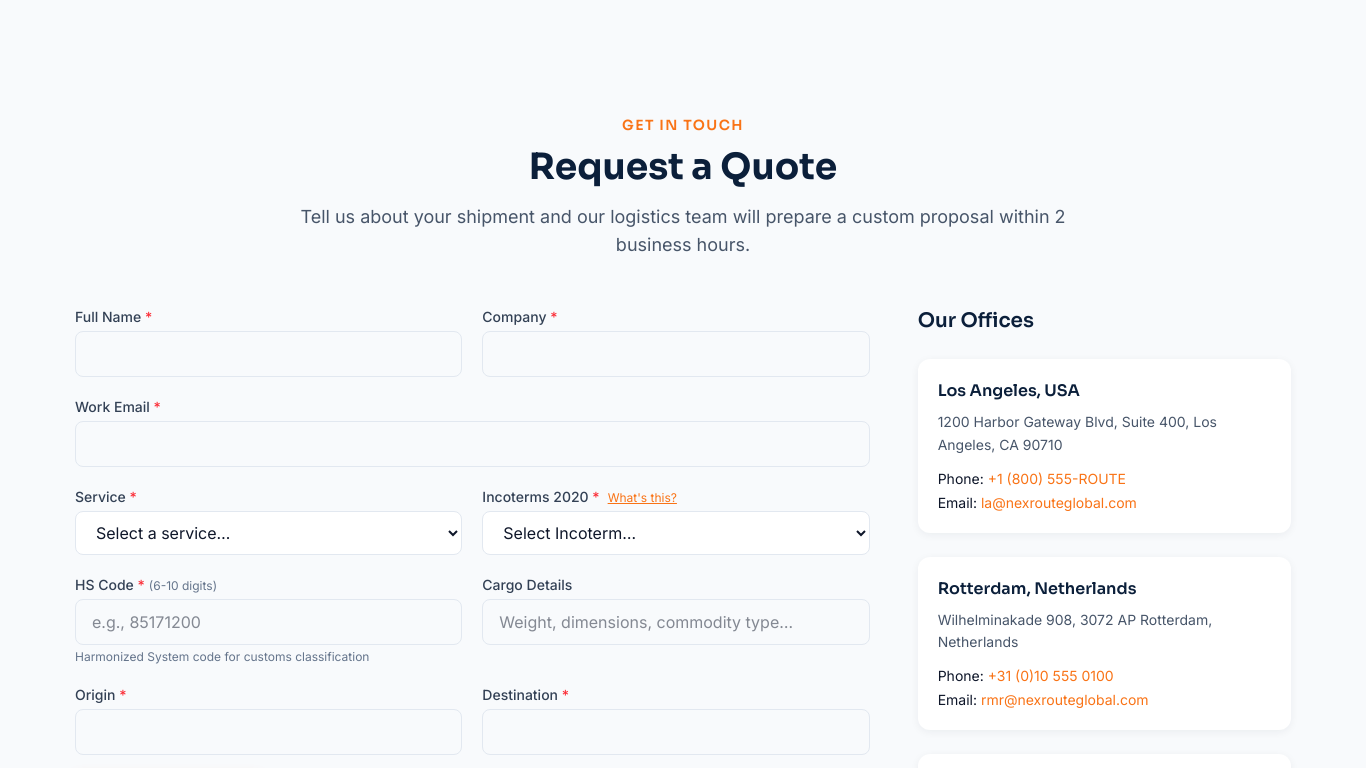
Test: ContactPage › shows incoterm descriptions
This screenshot has width=1366, height=768.
Click the button "What's this?" at (642, 498), box x1=608 y1=490 x2=677 y2=506
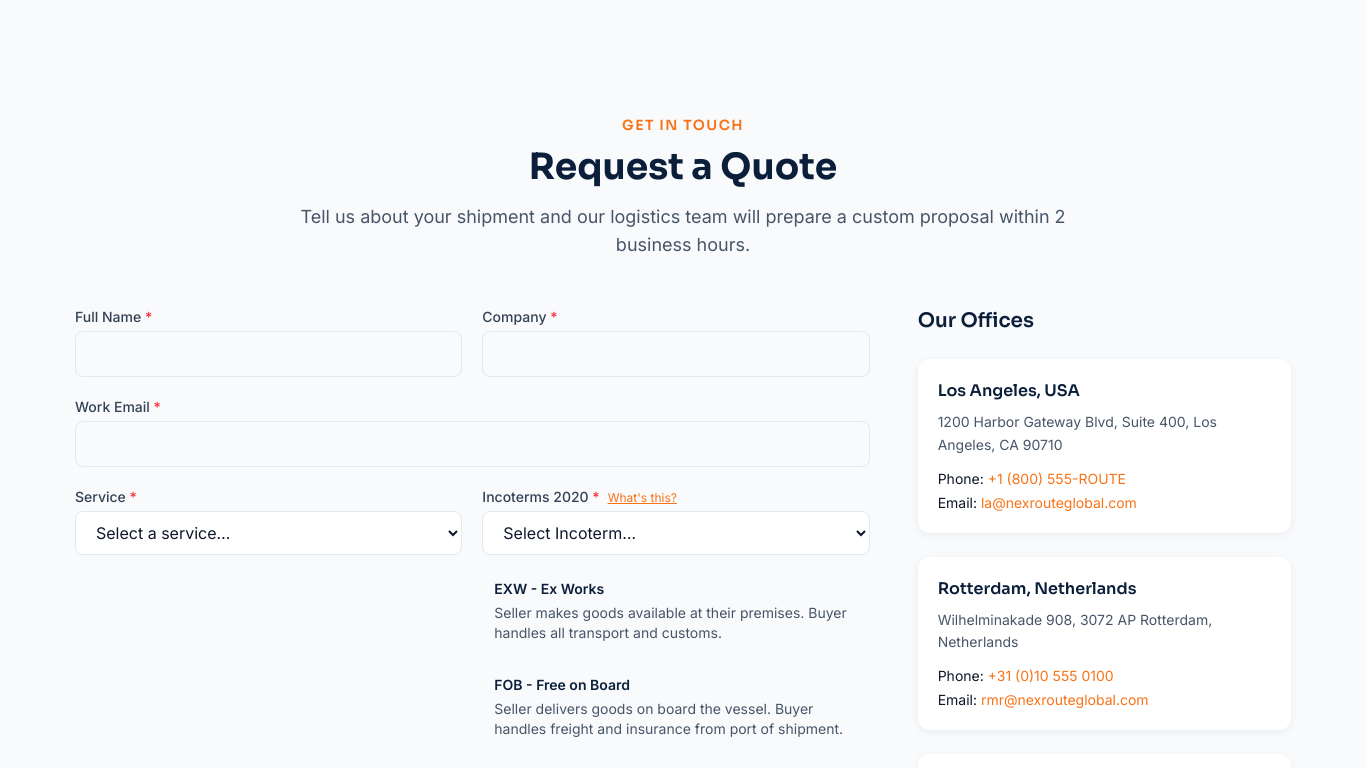
Check: the text "Seller makes goods available" is shown, box x1=494 y1=604 x2=847 y2=641
